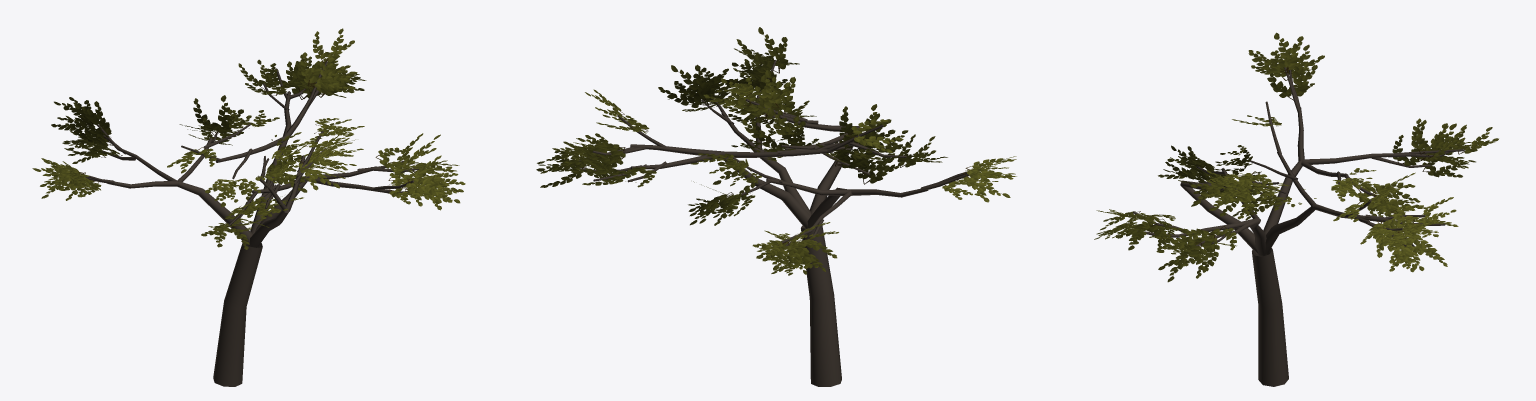
Rendered from acacia_1_burnt2.glb.
The picture shows the model from 3 angles, left to right: view 1: azimuth 30°, elevation 25°; view 2: azimuth 150°, elevation 25°; view 3: azimuth 270°, elevation 25°; orthographic projection. The views are drawn at different scales.
Visible parts, largest first — view 1: acacia_1_burnt2; view 2: acacia_1_burnt2; view 3: acacia_1_burnt2.
Boxes of the visible parts, x1,y1,x2,y2 form: acacia_1_burnt2: [32, 28, 465, 386]; acacia_1_burnt2: [536, 27, 1016, 386]; acacia_1_burnt2: [1094, 32, 1498, 386].
Bounding box in the file's own units: 10.25 × 6.45 × 9.33.
Materials: 2 (1 with a texture image).
